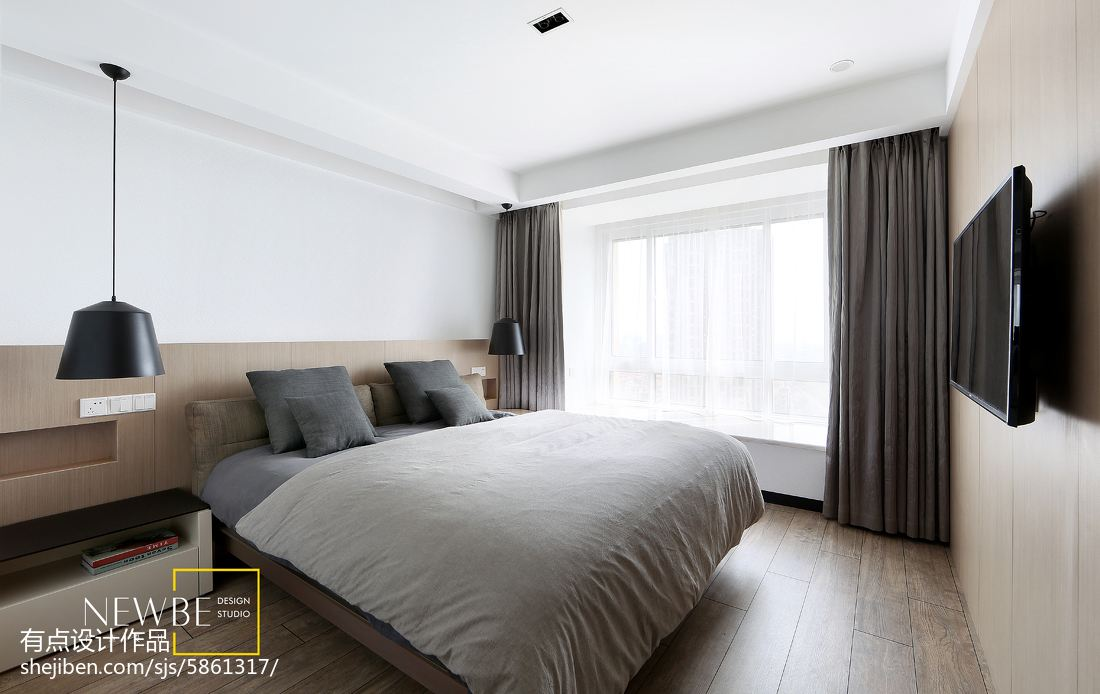床: (208, 409, 765, 676)
枕头: (230, 357, 480, 448)
灯: (45, 49, 168, 387), (478, 315, 528, 412), (528, 11, 570, 39), (823, 55, 854, 76)
